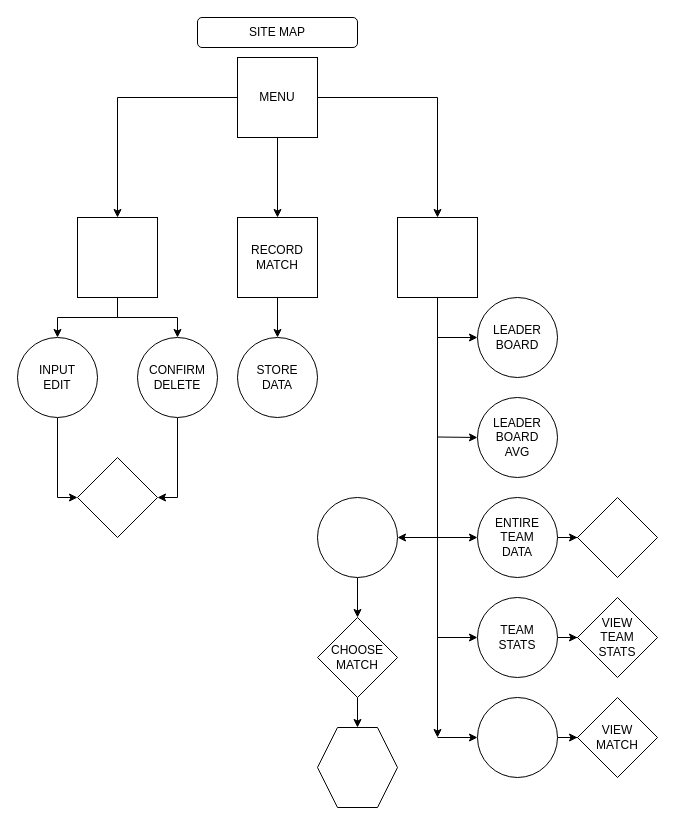
This 675x825 diagram has some shape labels left out. The shapes that lost their labels are listed below. From the top down, each one's box as (x1, y1, x2, y2) in pixels, then its label:
(76, 216, 158, 298): EDIT DELETE DATA
(396, 216, 478, 298): VIEW DATA MENU
(76, 456, 158, 538): STORE EDIT DELETE
(316, 496, 398, 578): VIEW INDIVIDUAL TEAM IN MATCH
(576, 496, 658, 578): VIEW ENTIRE TEAM
(476, 696, 558, 778): MATCH
(316, 726, 398, 808): VIEW DATA
